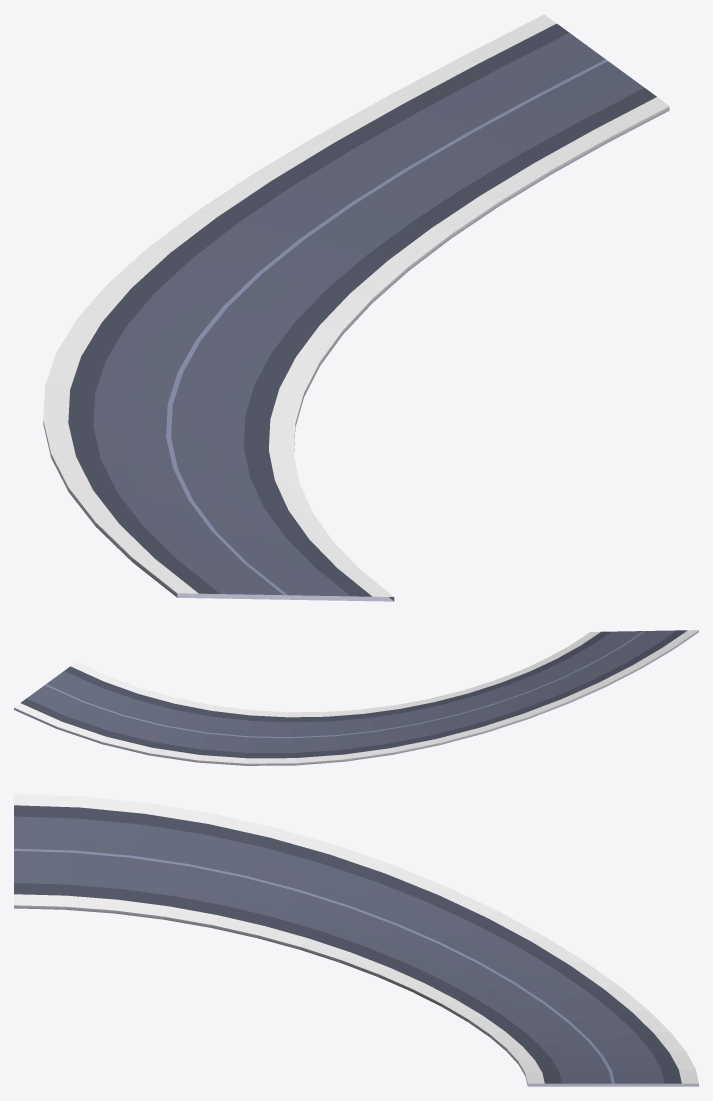
File: road-Turn-HalfBankedRight-BiSlopeUp-Up1-Right-Size4.glb
3 renders of one model, top to bottom at view 1: azimuth 30°, elevation 25°; view 2: azimuth 150°, elevation 25°; view 3: azimuth 270°, elevation 25°, orthographic. The views are drawn at different scales.
Visible parts, largest first — view 1: road-Turn-HalfBankedRight-BiSlopeUp-Up1-Right-Size4; view 2: road-Turn-HalfBankedRight-BiSlopeUp-Up1-Right-Size4; view 3: road-Turn-HalfBankedRight-BiSlopeUp-Up1-Right-Size4.
Part boxes in pixels (<box>): road-Turn-HalfBankedRight-BiSlopeUp-Up1-Right-Size4: <box>43,14,669,601</box>; road-Turn-HalfBankedRight-BiSlopeUp-Up1-Right-Size4: <box>14,630,698,765</box>; road-Turn-HalfBankedRight-BiSlopeUp-Up1-Right-Size4: <box>14,794,698,1086</box>.
Bounding box in the file's own units: 4 × 0.3021 × 4.
1 material, 1 textured.
